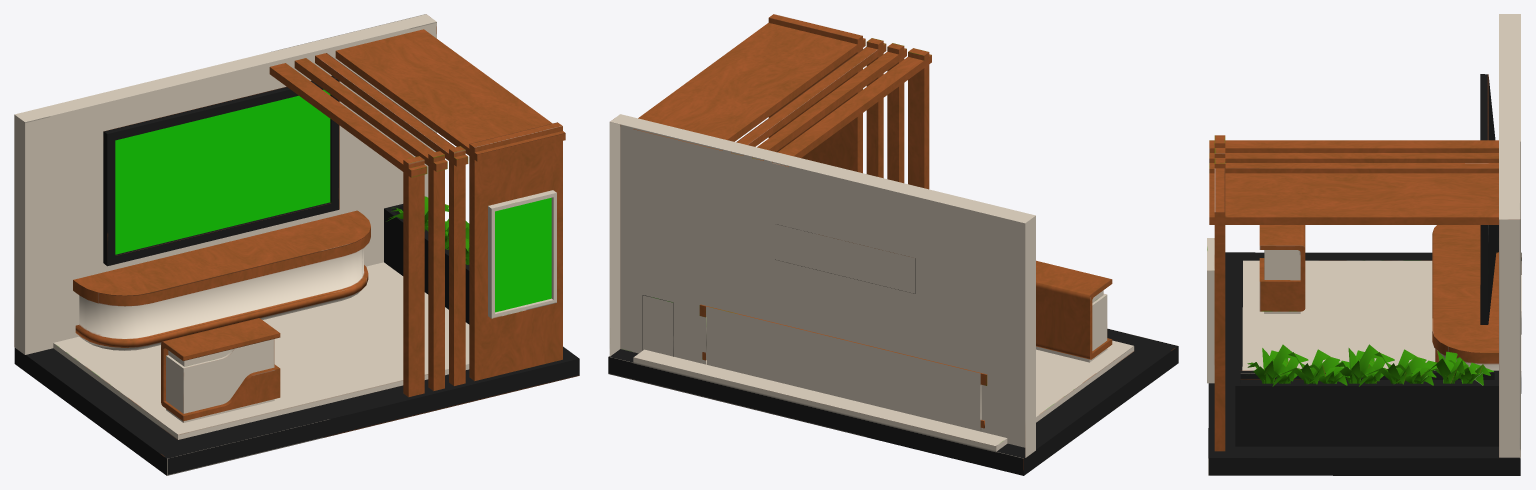
Rendered from stand1.glb.
3 views of the same model, side by side, from view 1: azimuth 30°, elevation 25°; view 2: azimuth 150°, elevation 25°; view 3: azimuth 270°, elevation 25° (orthographic). The views are drawn at different scales.
Visible parts, largest first — view 1: Plane.001, PanelVideo, PanelPoster; view 2: Plane.001; view 3: Plane.001.
Part boxes in pixels (x1=…): Plane.001: x1=14, y1=14, x2=579, y2=475; PanelVideo: x1=115, y1=89, x2=330, y2=254; PanelPoster: x1=495, y1=197, x2=551, y2=312; Plane.001: x1=608, y1=14, x2=1178, y2=475; Plane.001: x1=1207, y1=14, x2=1521, y2=475.
Size of the model in its own units: 11.55 by 6.7 by 7.45.
2 materials, 1 textured.
